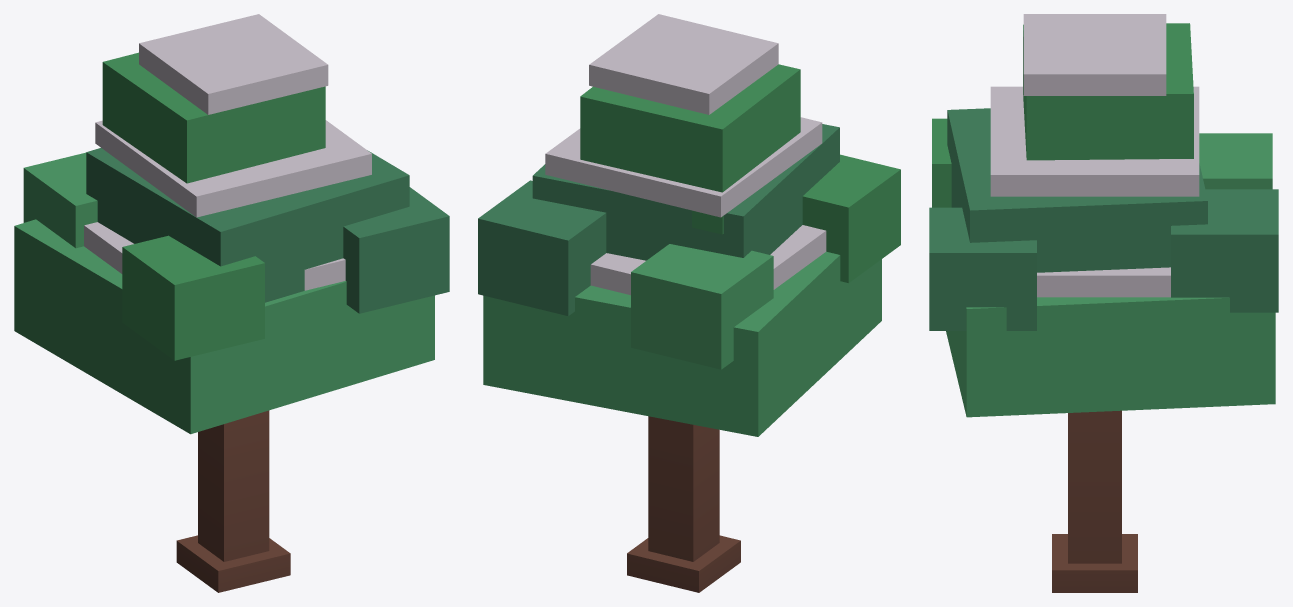
File: snowy-tree.glb
3 views of the same model, side by side, from view 1: azimuth 30°, elevation 25°; view 2: azimuth 150°, elevation 25°; view 3: azimuth 270°, elevation 25° (orthographic). The views are drawn at different scales.
Visible parts, largest first — view 1: snowy-tree_body; view 2: snowy-tree_body; view 3: snowy-tree_body.
Part boxes in pixels (box(x1,y1,x2,y2)): snowy-tree_body: box(14, 14, 449, 592); snowy-tree_body: box(478, 14, 900, 592); snowy-tree_body: box(929, 14, 1278, 592).
Size of the model in its own units: 3.42 by 5.88 by 3.51.
